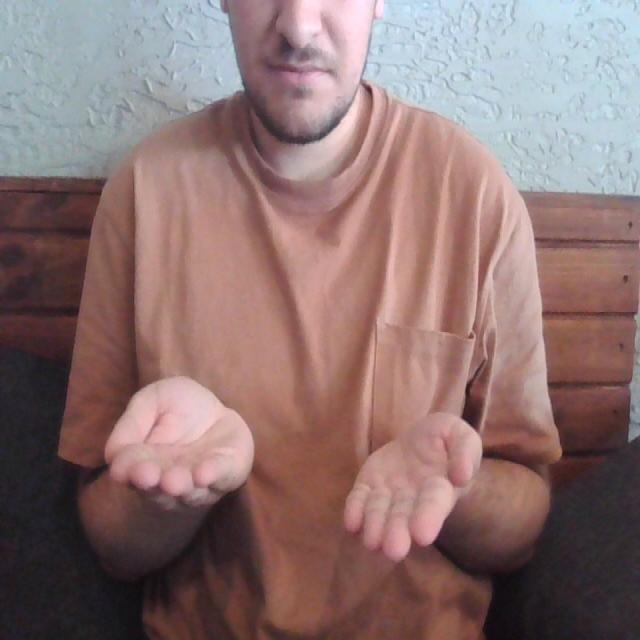Evet: (89, 366, 488, 569)
